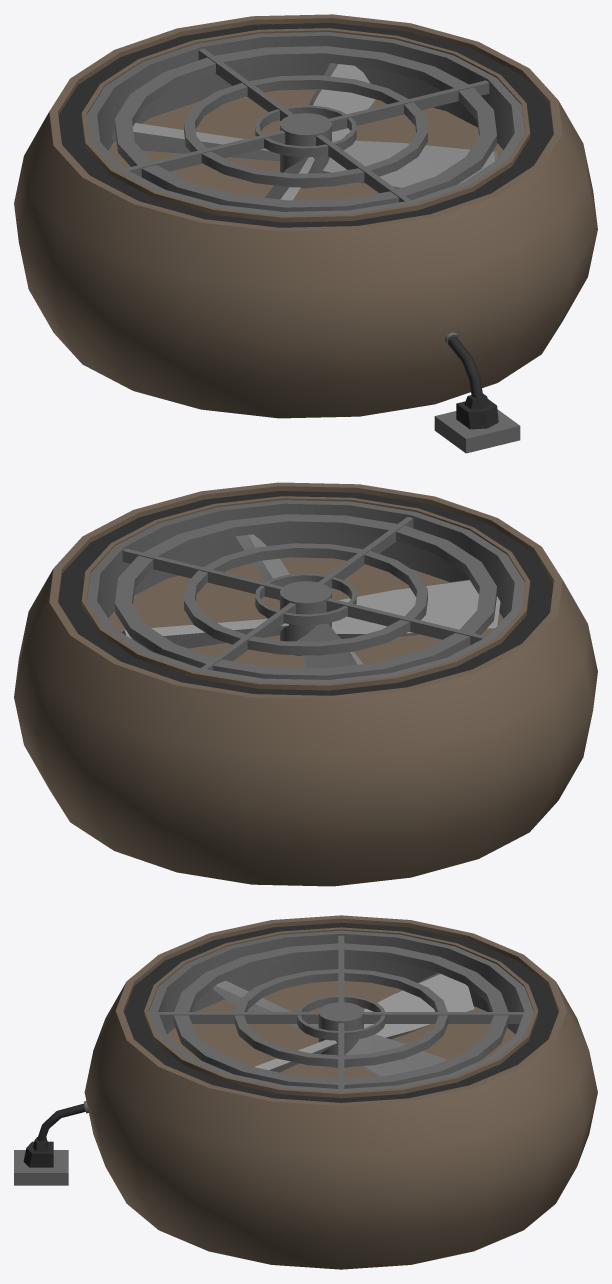
File: NewBallHolder.fbx
3 views of the same model, one above another, from view 1: azimuth 30°, elevation 25°; view 2: azimuth 150°, elevation 25°; view 3: azimuth 270°, elevation 25° (orthographic). The views are drawn at different scales.
Visible parts, largest first — view 1: MM_Fan, MM_FanBlades; view 2: MM_Fan, MM_FanBlades; view 3: MM_Fan, MM_FanBlades.
Part boxes in pixels (left/top/right/bottom): MM_Fan: left=14, top=14, right=597, bottom=453; MM_FanBlades: left=111, top=63, right=497, bottom=200; MM_Fan: left=14, top=482, right=597, bottom=886; MM_FanBlades: left=122, top=534, right=500, bottom=668; MM_Fan: left=14, top=915, right=597, bottom=1269; MM_FanBlades: left=212, top=973, right=474, bottom=1076.
Size of the model in its own units: 2.85 by 1 by 3.24.
